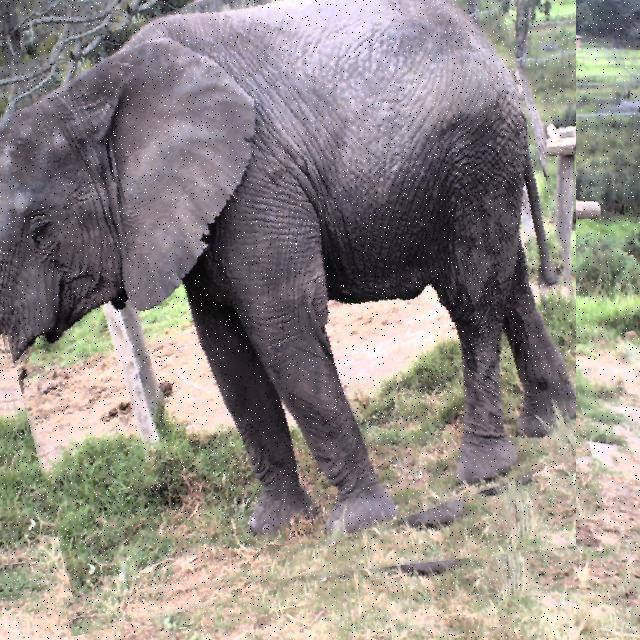elephant: (0, 0, 576, 609)
